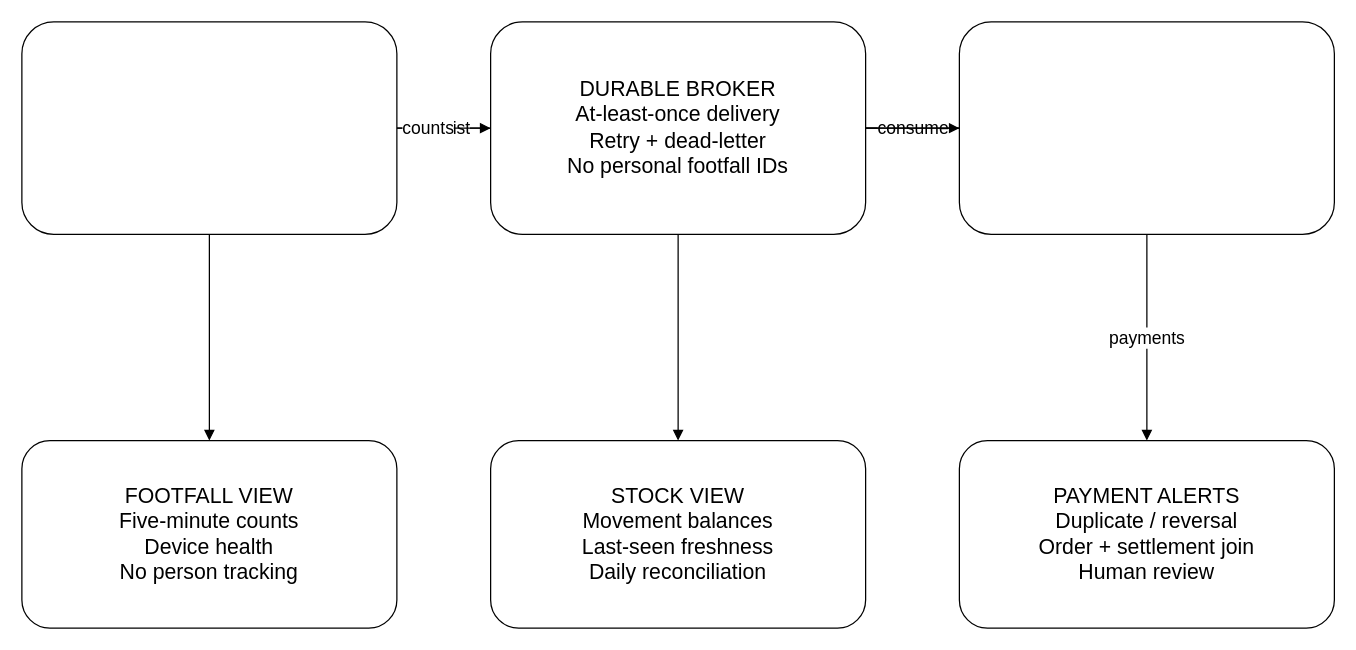
The diagram is 1356 pixels wide and 650 high, and some of its shapes have lost their labels. Here are the shapes that lost their labels. From the top down, the centre of each, then its label:
At [209,127]: "EDGE / SOURCE EVENTS Footfall counts Stock movements Provider payment events".
At [1146,127]: "CONSUMERS Deduplicate event IDs Event-time windows Late-event handling".
